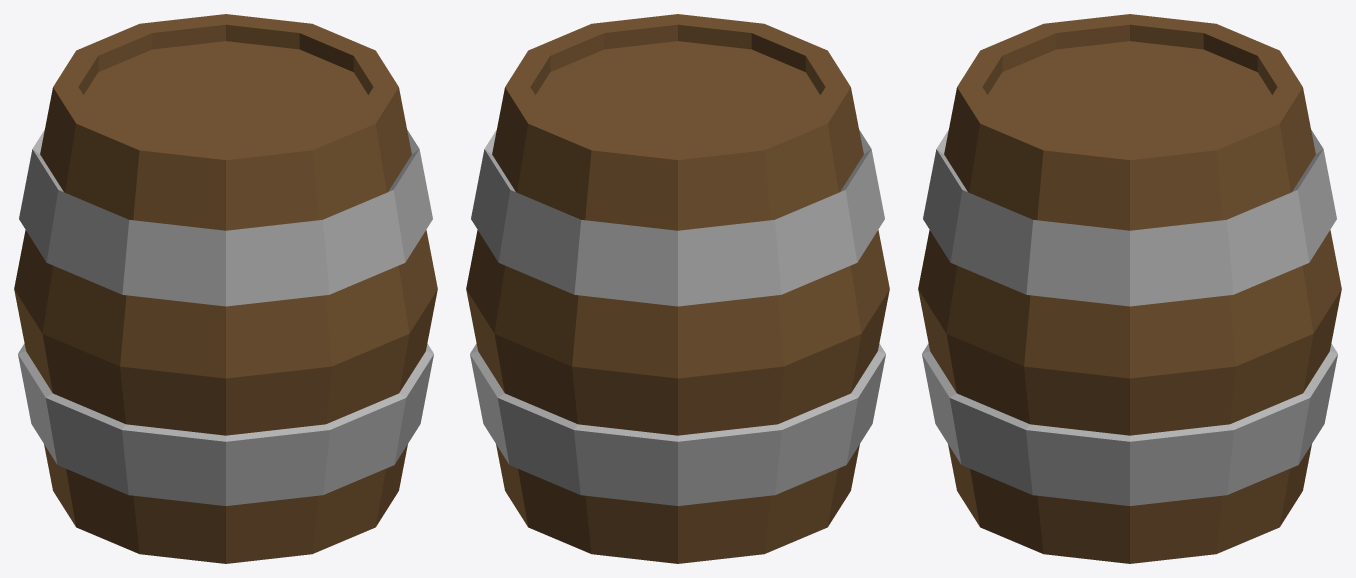
The model's file is Barrel.glb.
3 views of the same model, side by side, from view 1: azimuth 30°, elevation 25°; view 2: azimuth 150°, elevation 25°; view 3: azimuth 270°, elevation 25° (orthographic).
Visible parts, largest first — view 1: BARREL-col; view 2: BARREL-col; view 3: BARREL-col.
Boxes of the visible parts, x1,y1,x2,y2 form: BARREL-col: (14, 14, 437, 563); BARREL-col: (466, 14, 889, 563); BARREL-col: (918, 14, 1341, 563).
Bounding box in the file's own units: 2.43 × 2.55 × 2.43.
